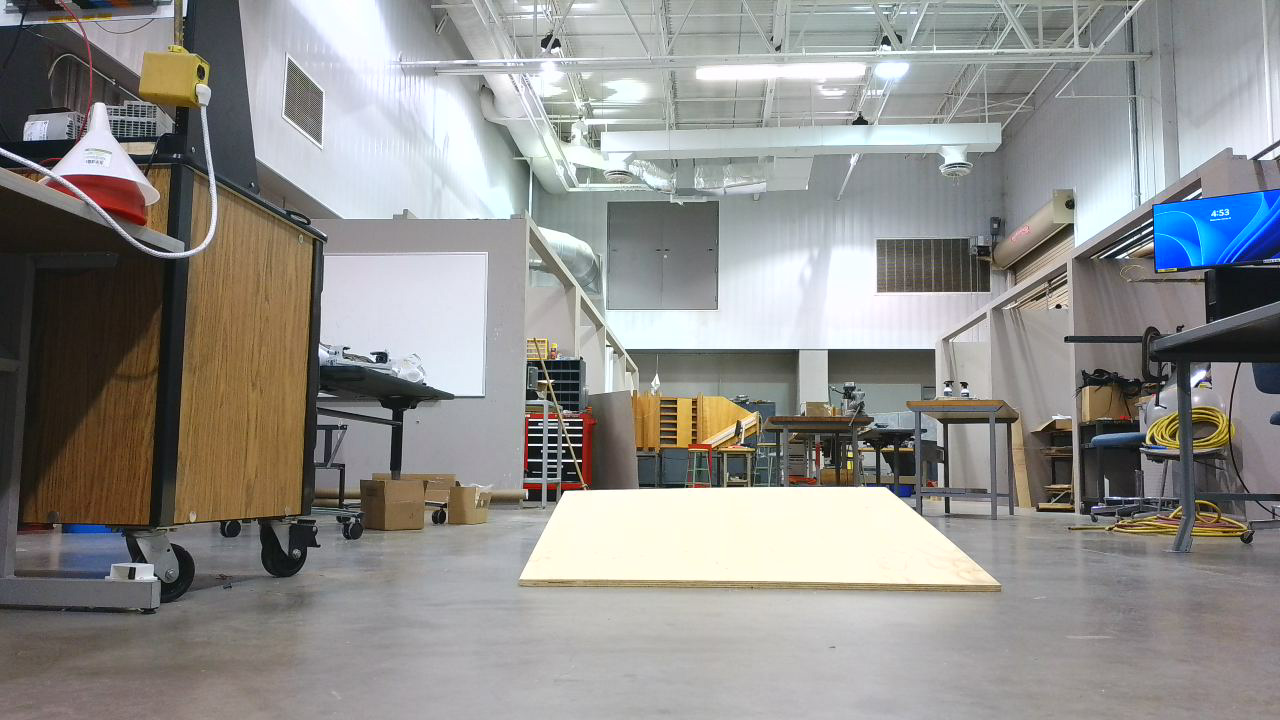ramp: (516, 488, 1011, 598)
